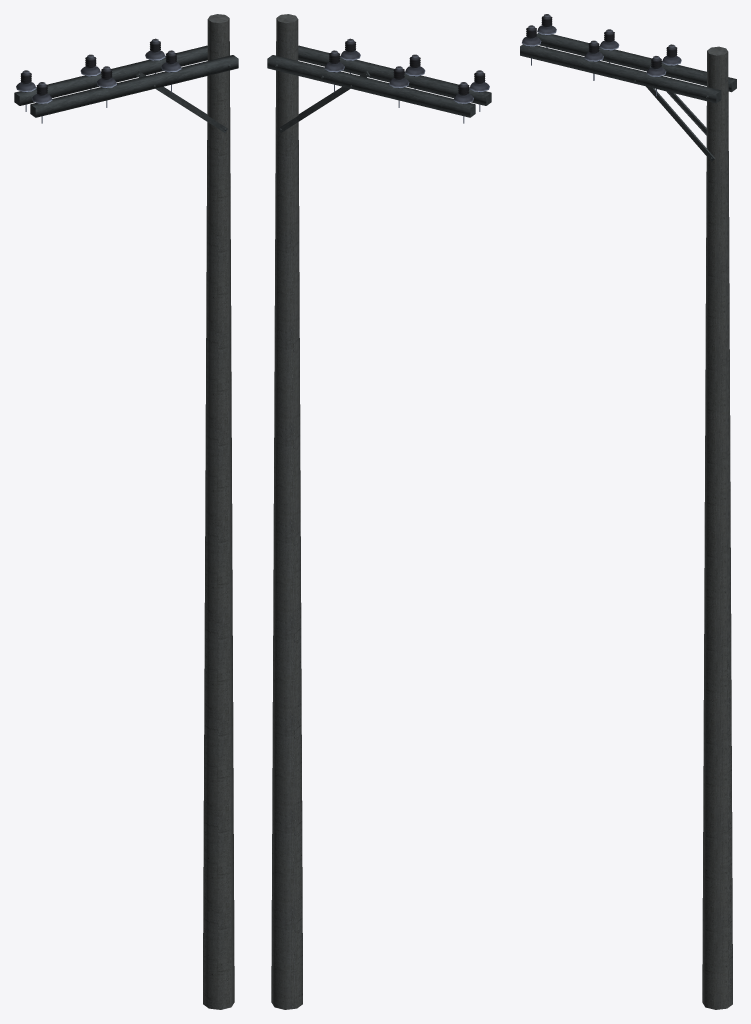
The model's file is pole_concrete_d_lod_0.glb.
3 views of the same model, side by side, from view 1: azimuth 30°, elevation 25°; view 2: azimuth 150°, elevation 25°; view 3: azimuth 330°, elevation 25° (orthographic). The views are drawn at different scales.
Parts seen in each view (by area): view 1: pole_concrete_d_lod_0; view 2: pole_concrete_d_lod_0; view 3: pole_concrete_d_lod_0.
Part boxes in pixels (<box>): pole_concrete_d_lod_0: <box>14,14,238,1009</box>; pole_concrete_d_lod_0: <box>267,14,491,1009</box>; pole_concrete_d_lod_0: <box>520,14,736,1009</box>.
Bounding box in the file's own units: 2.24 × 10.2 × 0.5.
2 materials, 2 textured.
